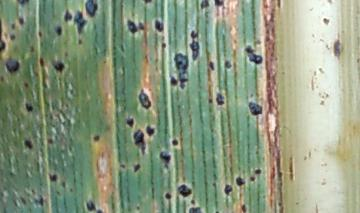tarspot: (172, 50, 191, 89), (73, 9, 89, 48), (242, 43, 263, 65), (188, 29, 201, 62), (132, 129, 148, 155), (137, 87, 153, 110), (246, 97, 263, 117), (4, 56, 19, 76), (83, 1, 100, 18), (1, 16, 7, 59), (84, 200, 103, 213), (49, 58, 65, 73), (177, 183, 192, 198), (124, 19, 138, 35), (332, 38, 343, 58), (157, 150, 173, 163), (214, 91, 226, 107), (153, 17, 164, 34), (222, 183, 234, 196), (63, 8, 73, 23), (234, 175, 246, 187), (144, 125, 156, 137), (32, 196, 45, 207), (23, 101, 34, 112), (198, 1, 210, 11), (168, 74, 178, 86), (47, 172, 57, 184), (53, 24, 63, 36), (187, 205, 201, 213), (320, 16, 331, 26), (125, 117, 135, 128), (23, 138, 33, 149), (223, 58, 232, 70), (310, 74, 316, 92), (15, 1, 30, 8), (238, 203, 248, 213), (17, 15, 25, 27), (162, 191, 172, 200), (170, 137, 179, 147), (206, 61, 215, 71), (132, 163, 141, 173), (136, 21, 145, 31), (253, 167, 262, 176), (91, 133, 101, 141), (213, 1, 225, 7), (46, 136, 54, 145), (317, 66, 325, 75), (28, 43, 35, 53), (59, 179, 66, 189), (38, 56, 44, 67), (248, 175, 256, 183), (133, 203, 140, 212), (117, 162, 126, 169), (324, 42, 331, 51), (160, 41, 167, 49), (9, 22, 16, 30), (163, 162, 169, 171), (9, 33, 15, 42), (206, 98, 214, 104), (36, 30, 42, 38), (318, 37, 326, 43), (23, 81, 28, 89), (141, 1, 153, 4), (355, 56, 360, 63), (326, 1, 333, 5), (213, 209, 220, 213)
